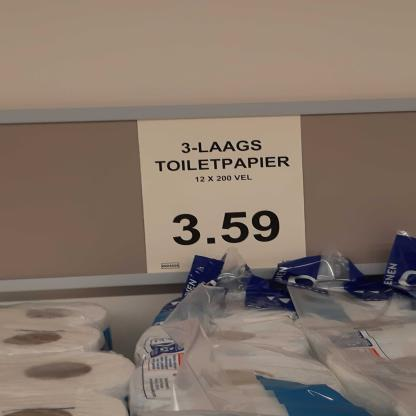prtg: (138, 116, 307, 274)
